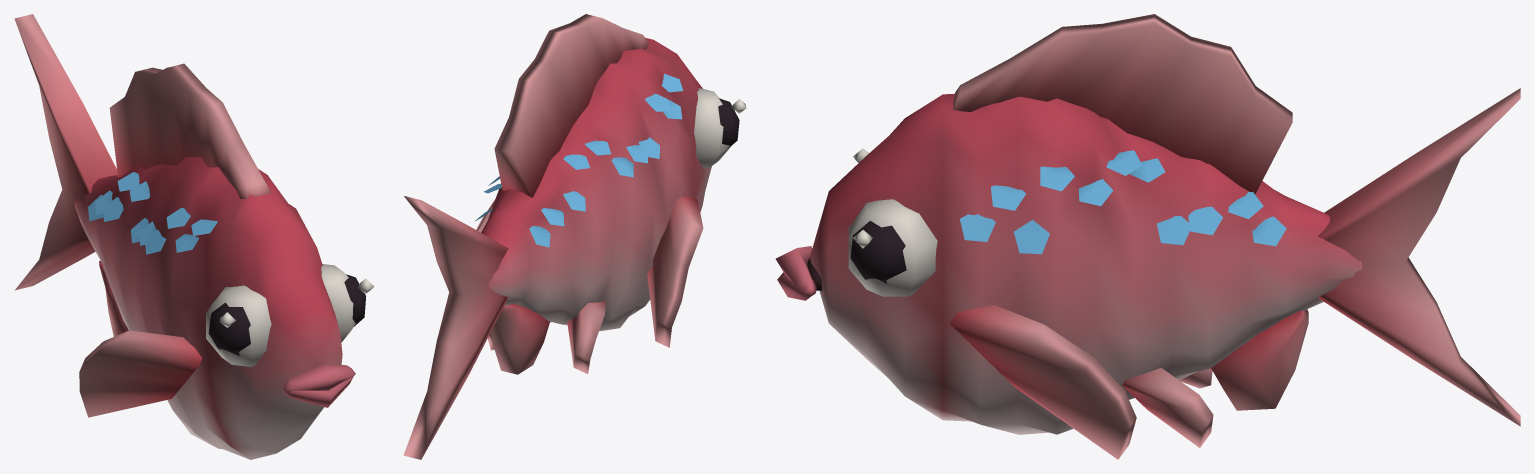
File: prop-fish-seaBream.glb
The picture shows the model from 3 angles, left to right: view 1: azimuth 30°, elevation 25°; view 2: azimuth 150°, elevation 25°; view 3: azimuth 270°, elevation 25°; orthographic projection. The views are drawn at different scales.
Parts seen in each view (by area): view 1: body; view 2: body; view 3: body.
Part boxes in pixels (bbox=[...]): body: bbox=[14, 14, 374, 459]; body: bbox=[403, 14, 746, 459]; body: bbox=[775, 14, 1520, 459].
Size of the model in its own units: 0.2135 by 0.309 by 0.5053.
